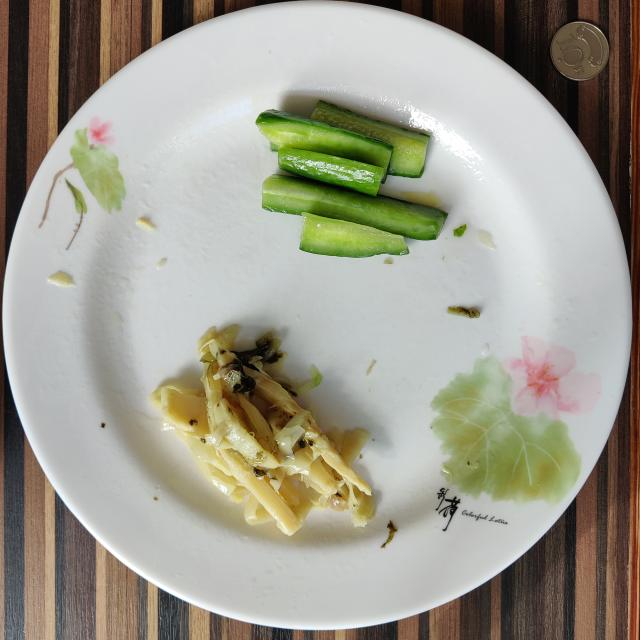coin: (550, 21, 609, 81)
cucumber: (256, 100, 448, 258)
